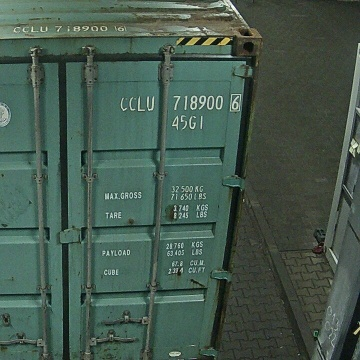serial_id: (120, 95, 239, 111)
